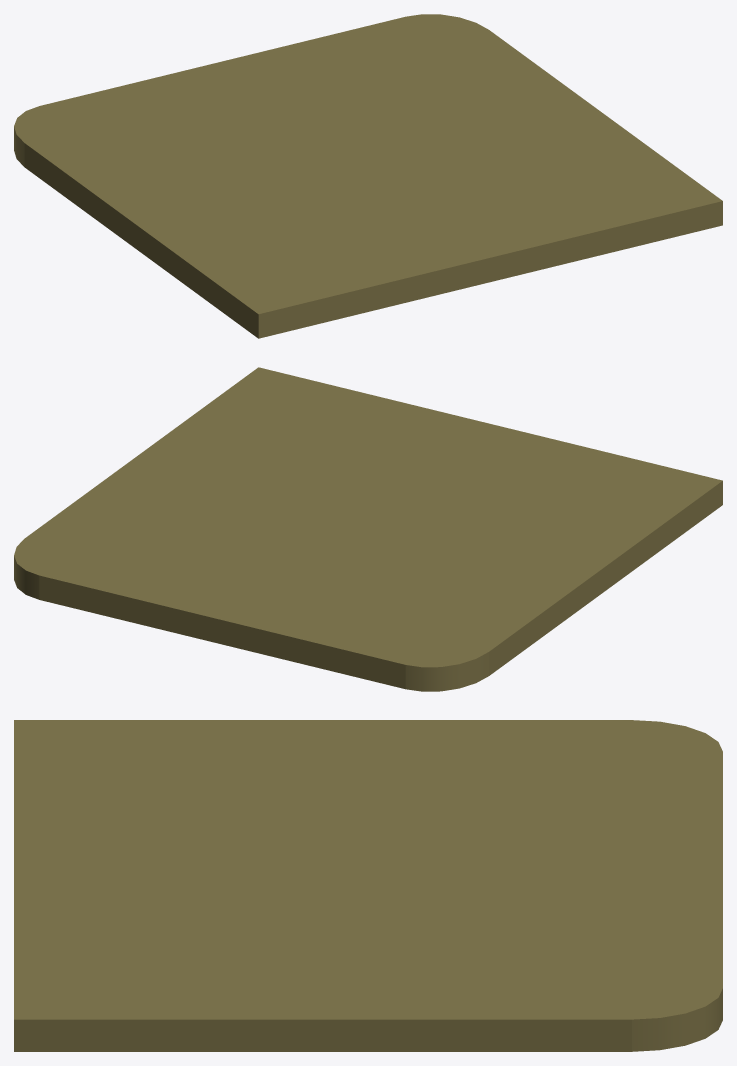
Rendered from Table_Border_02.fbx.
3 renders of one model, top to bottom at view 1: azimuth 30°, elevation 25°; view 2: azimuth 150°, elevation 25°; view 3: azimuth 270°, elevation 25°, orthographic. The views are drawn at different scales.
Parts seen in each view (by area): view 1: Table_Border_02; view 2: Table_Border_02; view 3: Table_Border_02.
Boxes of the visible parts, x1,y1,x2,y2 form: Table_Border_02: (14,14,722,338); Table_Border_02: (14,367,722,691); Table_Border_02: (14,720,722,1051).
Bounding box in the file's own units: 800 × 40.22 × 800.
